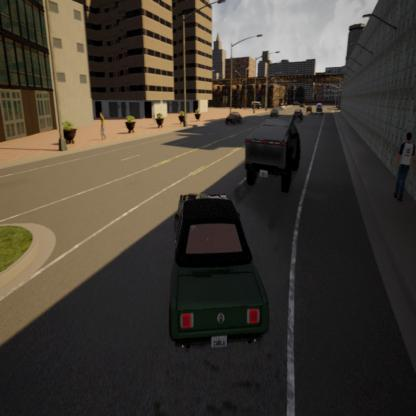Cars: (149, 174, 289, 365), (233, 110, 305, 200), (221, 102, 245, 128), (292, 104, 305, 128), (246, 96, 264, 112), (314, 100, 326, 119), (268, 108, 283, 120), (306, 100, 312, 120)
Pedestrian: (389, 105, 416, 227), (94, 103, 112, 149)
